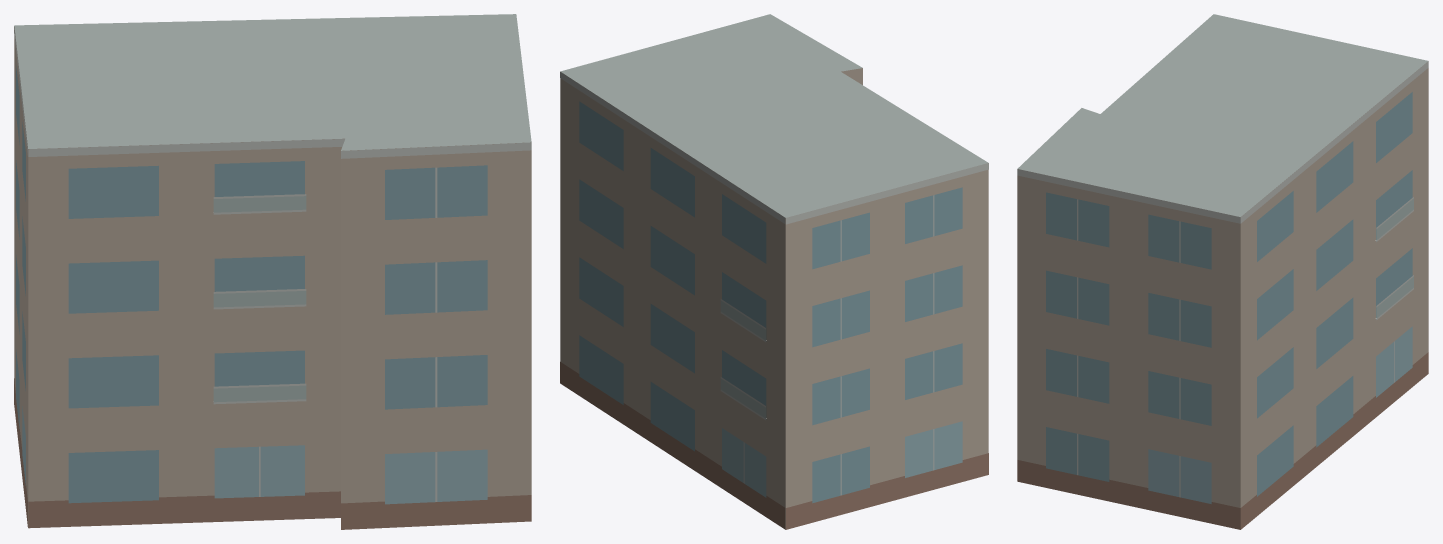
The model's file is survey-upis-32881275.glb.
The picture shows the model from 3 angles, left to right: view 1: azimuth 30°, elevation 25°; view 2: azimuth 150°, elevation 25°; view 3: azimuth 270°, elevation 25°; orthographic projection. The views are drawn at different scales.
Parts seen in each view (by area): view 1: survey-upis-32881275.tmp; view 2: survey-upis-32881275.tmp; view 3: survey-upis-32881275.tmp.
Part boxes in pixels (box(x1,y1,x2,y2)): survey-upis-32881275.tmp: box(14, 14, 531, 529); survey-upis-32881275.tmp: box(560, 14, 988, 529); survey-upis-32881275.tmp: box(1017, 14, 1428, 529).
Size of the model in its own units: 16.03 by 11.5 by 13.72.
